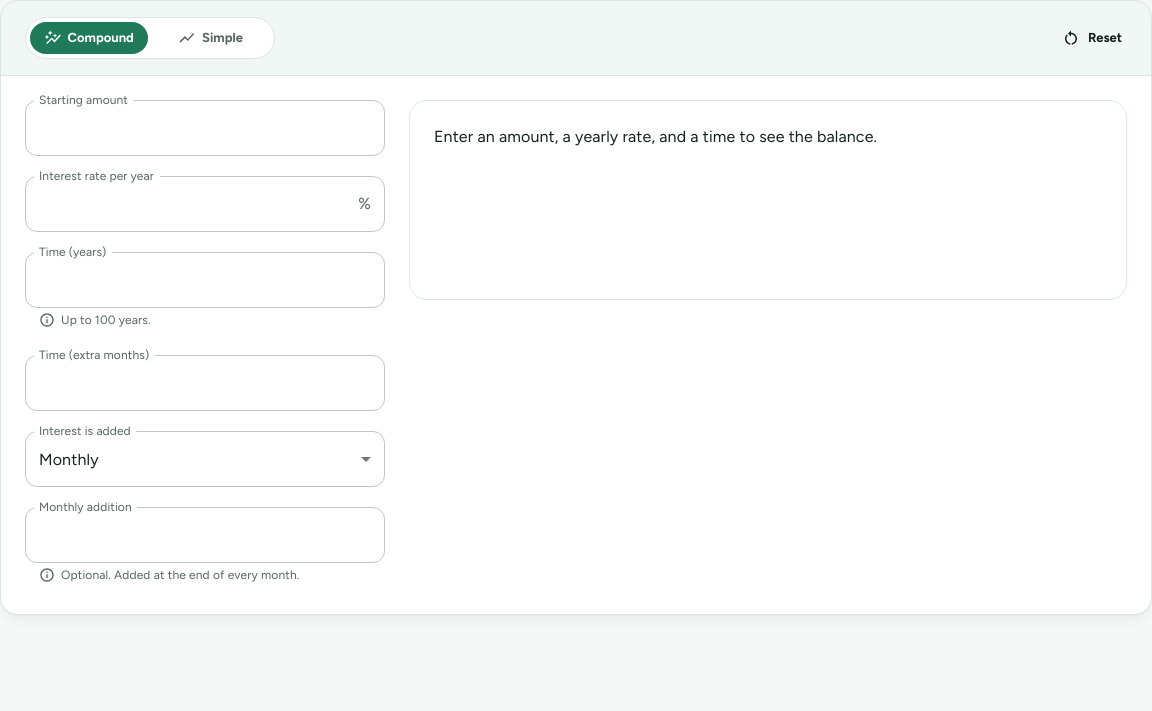
Test: InterestCalculatorTool › compounds interest by default
This screenshot has width=1152, height=711.
Type "10000" into the number field labelled "Starting amount".
click(205, 128); type("10000")  # box [25,100,385,156]
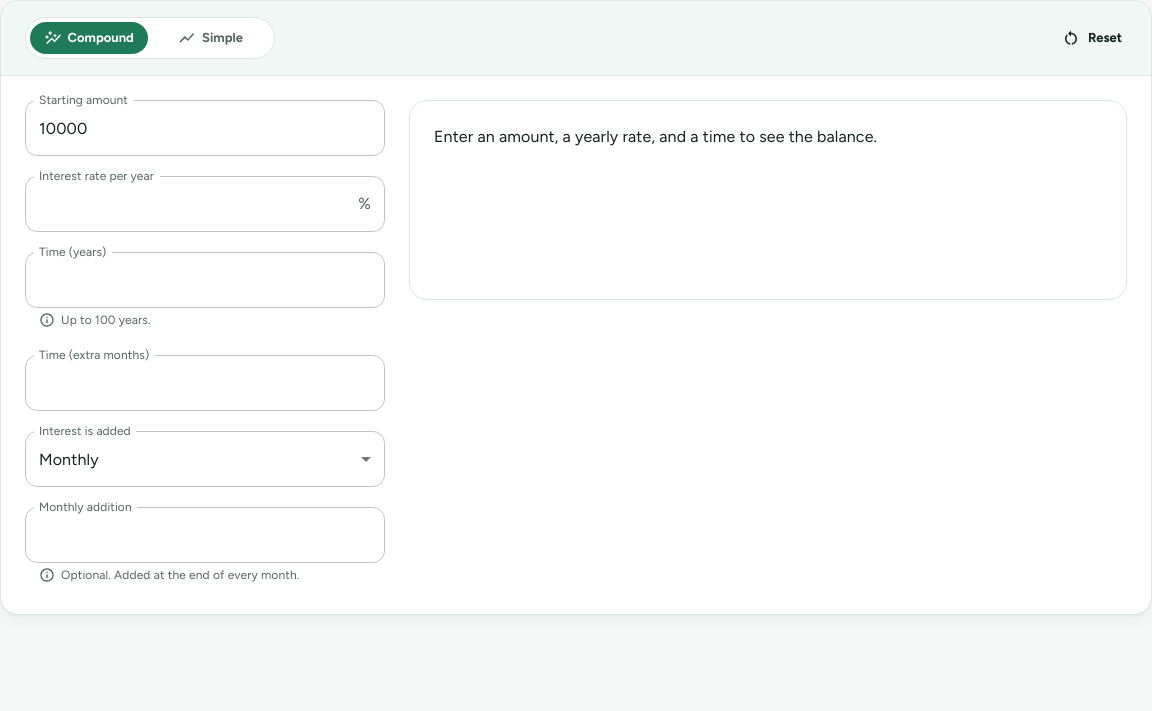
Type "5" into the number field labelled "Interest rate per year".
click(188, 204); type("5")  # box [25,176,350,232]
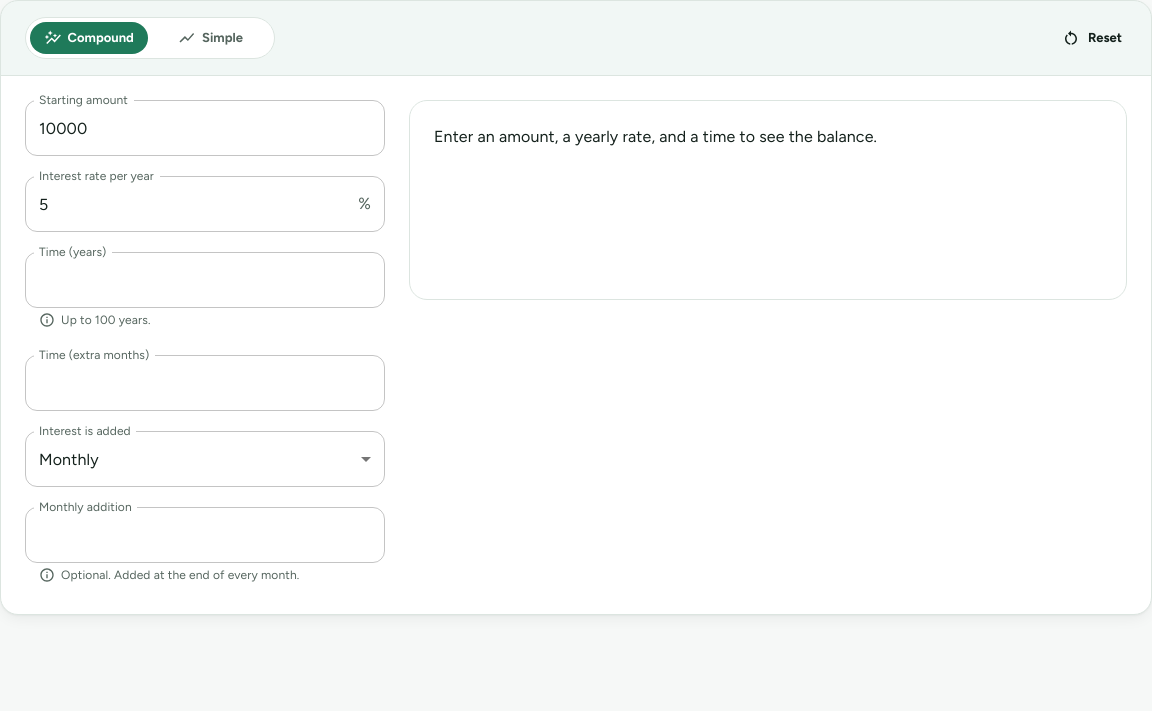
Type "10" into the number field labelled "Time (years)".
click(205, 280); type("10")  # box [25,252,385,308]
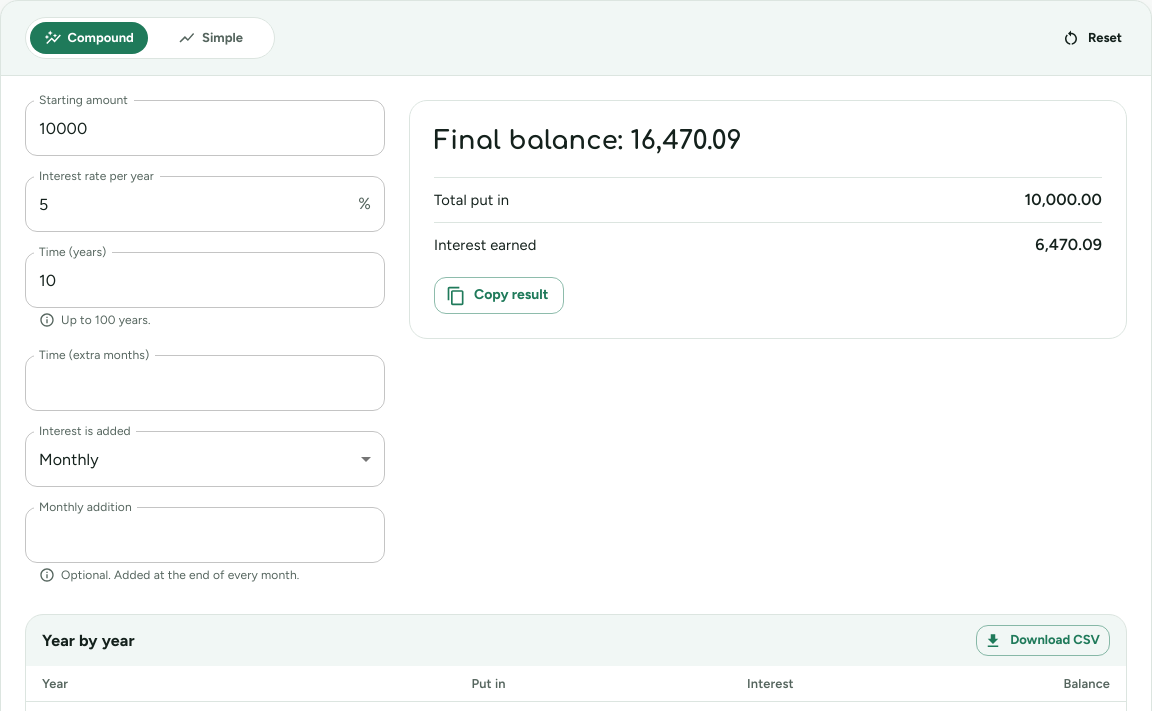
Expected: the text "Final balance: 16,470.09" is shown, [434,126,742,155]
Expected: the number of rows is 11
